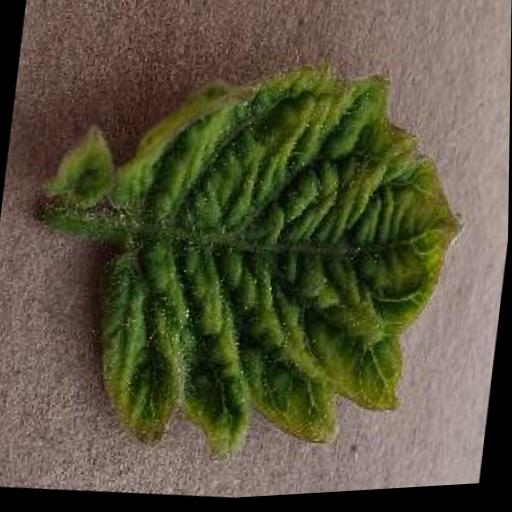Yellow Leaf Curl Virus: (75, 37, 489, 481)
